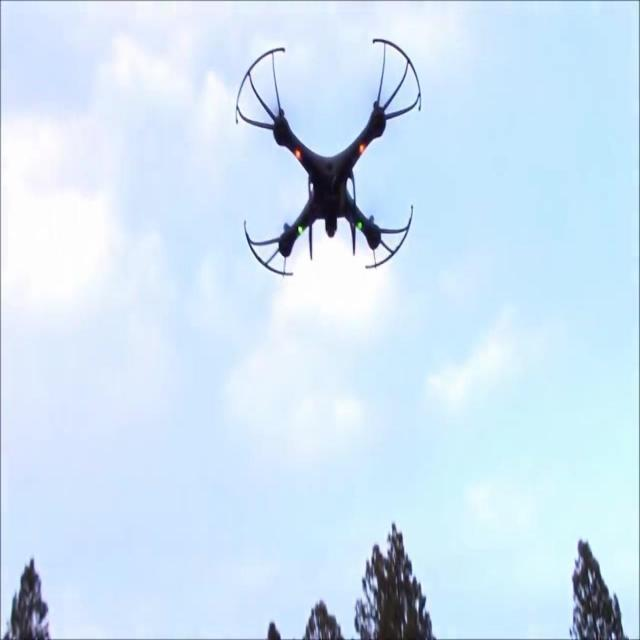UAV: (236, 39, 422, 276)
